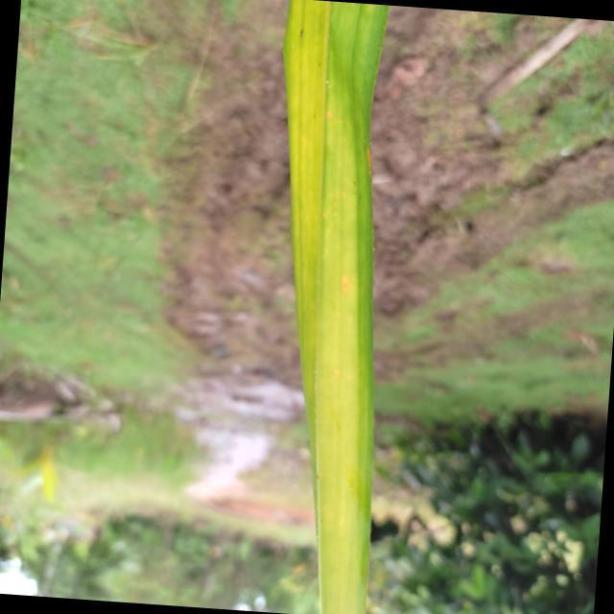nitrogen: (286, 0, 389, 614)
